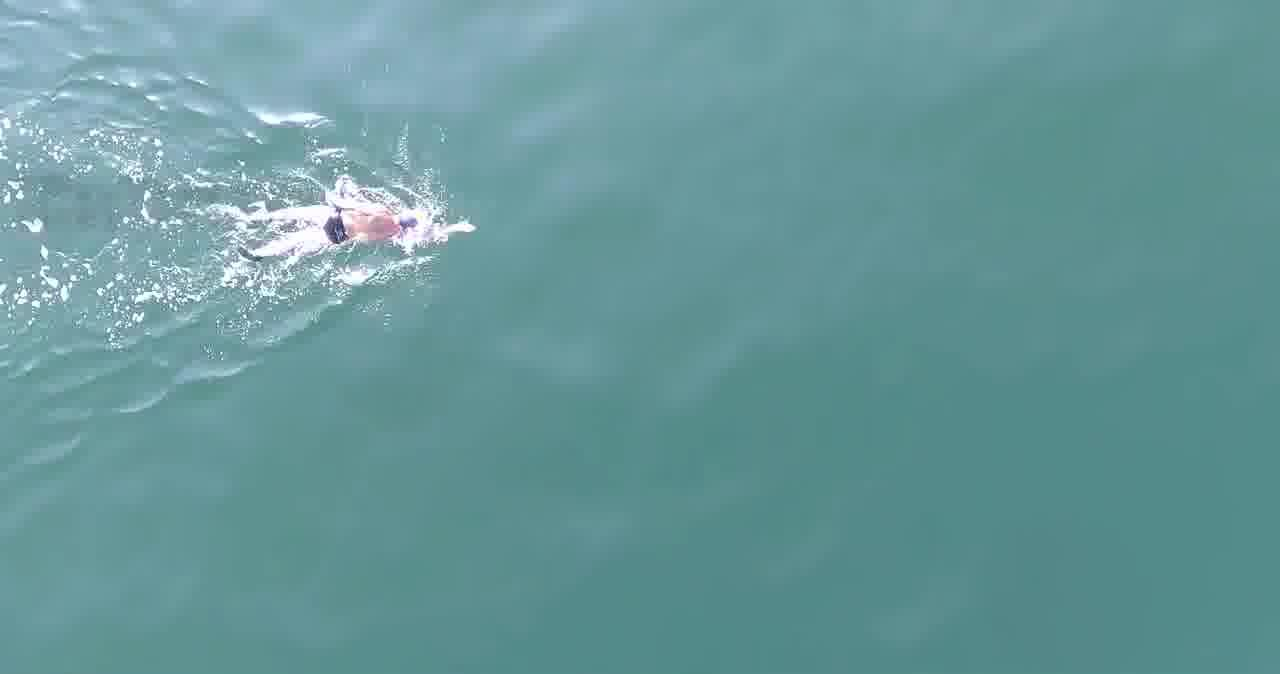human: (229, 187, 484, 268)
